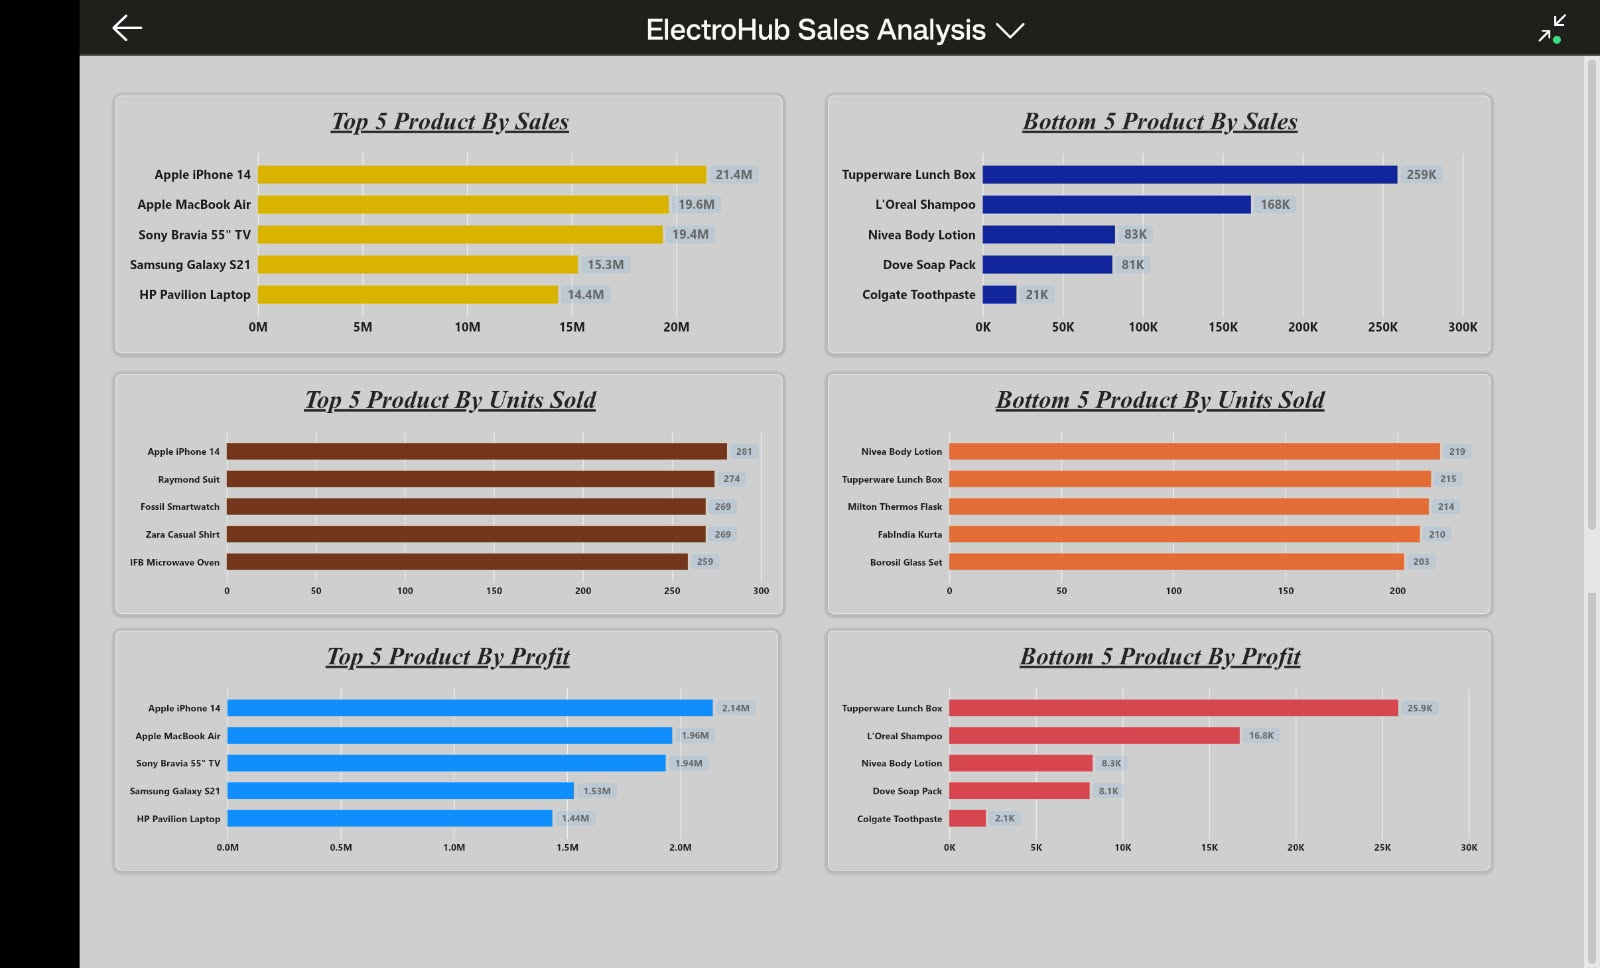

Layout of this report page (visuals, bound fields, positions):
{"tool":"powerbi","page":{"name":"Top/Bottom 5 Analysis","canvas":[1920,1080],"ordinal":1},"visuals":[{"type":"barChart","title":"Top 5 Product By Sales","fields":{"Category":["Dim Product.Product Name"],"Y":["Sum(Fact Table.Net Sales)"]},"box":[45.7,51.4,857.1,331.4],"z":0},{"type":"barChart","title":"Bottom 5 Product By Sales","fields":{"Category":["Dim Product.Product Name"],"Y":["Sum(Fact Table.Net Sales)"]},"box":[960,51.4,851.4,331.4],"z":1000},{"type":"barChart","title":"Top 5 Product By Units Sold","fields":{"Category":["Dim Product.Product Name"],"Y":["Sum(Fact Table.Units Sold)"]},"box":[45.7,408.6,857.1,308.6],"z":2000},{"type":"barChart","title":"Bottom 5 Product By Units Sold","fields":{"Category":["Dim Product.Product Name"],"Y":["Sum(Fact Table.Units Sold)"]},"box":[960,408.6,851.4,308.6],"z":3000},{"type":"barChart","title":"Top 5 Product By Profit","fields":{"Category":["Dim Product.Product Name"],"Y":["Sum(Fact Table.Profit)"]},"box":[45.7,740,851.4,308.6],"z":4000},{"type":"barChart","title":"Bottom 5 Product By Profit","fields":{"Category":["Dim Product.Product Name"],"Y":["Sum(Fact Table.Profit)"]},"box":[961,739.8,851.4,308.6],"z":5000}]}

Visuals, with their boxes on the page's 1920x1080 design canvas (x1, y1, x2, y2). These are canvas units, not pixel positions in the 1600x968 screenshot, which may show the page scaled, cropped or inside an application window:
"Top 5 Product By Sales" barChart: [left=46, top=51, right=903, bottom=383]
"Bottom 5 Product By Sales" barChart: [left=960, top=51, right=1811, bottom=383]
"Top 5 Product By Units Sold" barChart: [left=46, top=409, right=903, bottom=717]
"Bottom 5 Product By Units Sold" barChart: [left=960, top=409, right=1811, bottom=717]
"Top 5 Product By Profit" barChart: [left=46, top=740, right=897, bottom=1049]
"Bottom 5 Product By Profit" barChart: [left=961, top=740, right=1812, bottom=1048]
